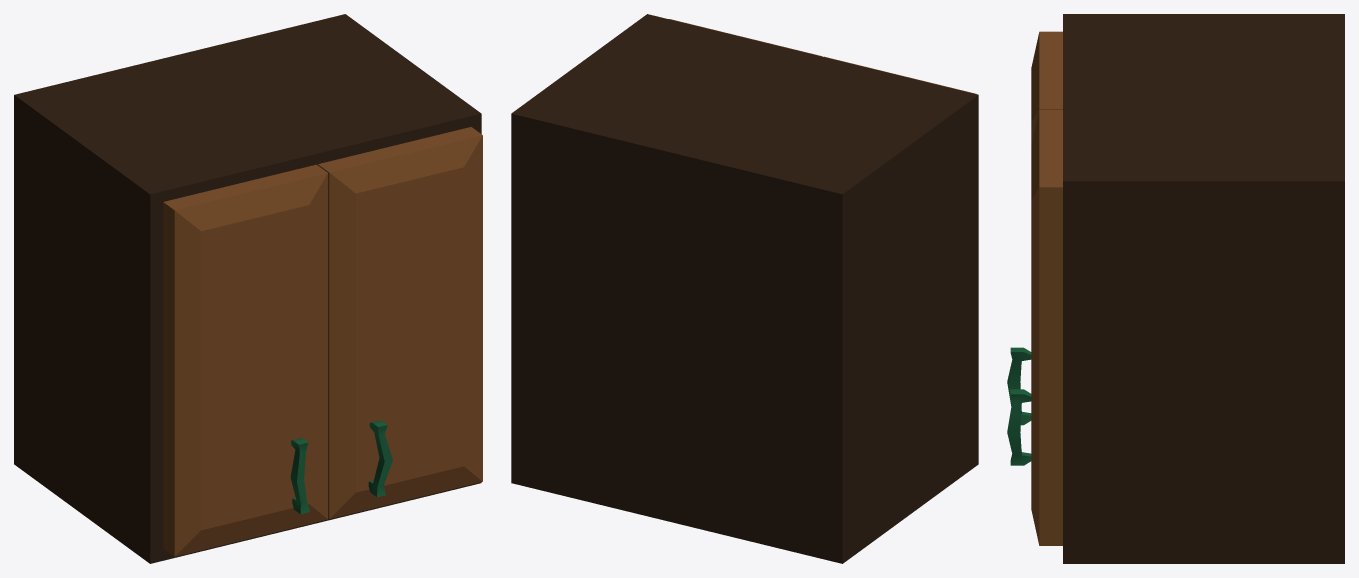
Rendered from cupboard_3_painted.fbx.
The picture shows the model from 3 angles, left to right: view 1: azimuth 30°, elevation 25°; view 2: azimuth 150°, elevation 25°; view 3: azimuth 270°, elevation 25°; orthographic projection. The views are drawn at different scales.
Visible parts, largest first — view 1: cupboard_door3_low, cupboard_base_low, cupboard_handle_3_low; view 2: cupboard_base_low; view 3: cupboard_base_low, cupboard_door3_low, cupboard_handle_3_low.
Boxes of the visible parts, left/top/right/bottom form: cupboard_door3_low: left=163, top=127, right=482, bottom=556; cupboard_base_low: left=14, top=14, right=481, bottom=563; cupboard_handle_3_low: left=290, top=420, right=392, bottom=514; cupboard_base_low: left=511, top=14, right=978, bottom=563; cupboard_base_low: left=1063, top=14, right=1344, bottom=563; cupboard_door3_low: left=1031, top=31, right=1062, bottom=545; cupboard_handle_3_low: left=1007, top=347, right=1031, bottom=465.
Bounding box in the file's own units: 5.9 × 6.29 × 5.03.
